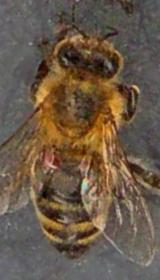varroa_mite: (34, 146, 63, 172)
